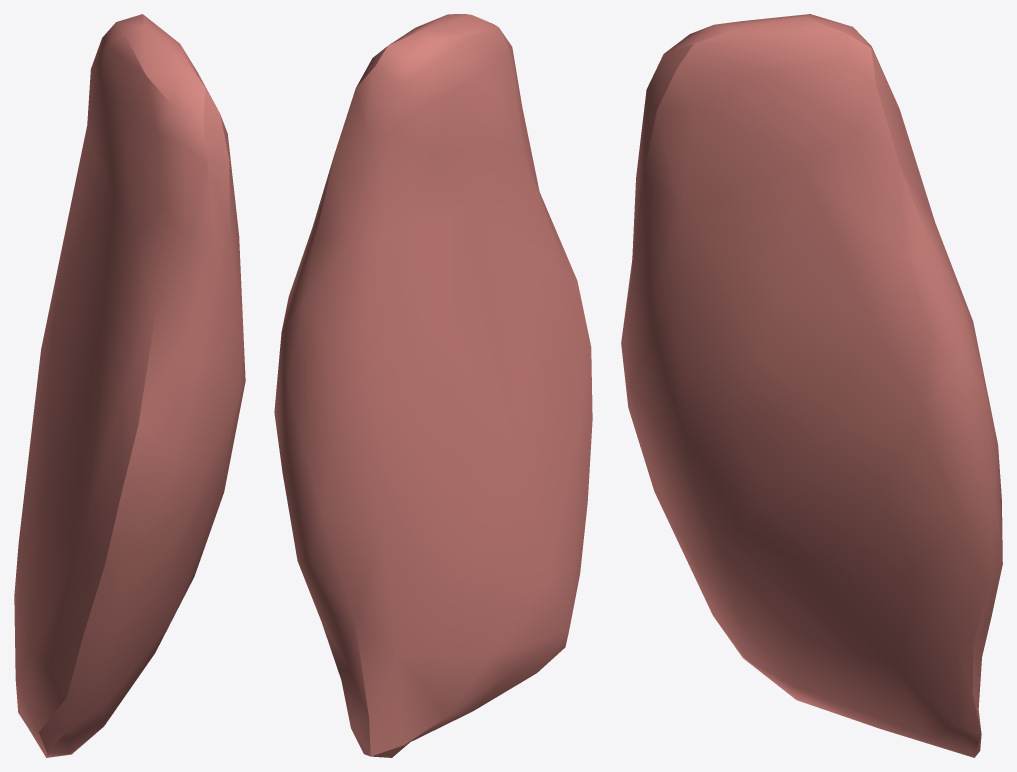
File: fma81579_mm2380.glb
3 renders of one model, left to right at view 1: azimuth 30°, elevation 25°; view 2: azimuth 150°, elevation 25°; view 3: azimuth 270°, elevation 25°, orthographic. The views are drawn at different scales.
Visible parts, largest first — view 1: FMA81579_MM2380; view 2: FMA81579_MM2380; view 3: FMA81579_MM2380.
Part boxes in pixels (x1,y1,x2,y2): FMA81579_MM2380: [14, 14, 245, 757]; FMA81579_MM2380: [274, 14, 592, 757]; FMA81579_MM2380: [621, 14, 1002, 757].
Bounding box in the file's own units: 0.00641 × 0.0202 × 0.00923.
